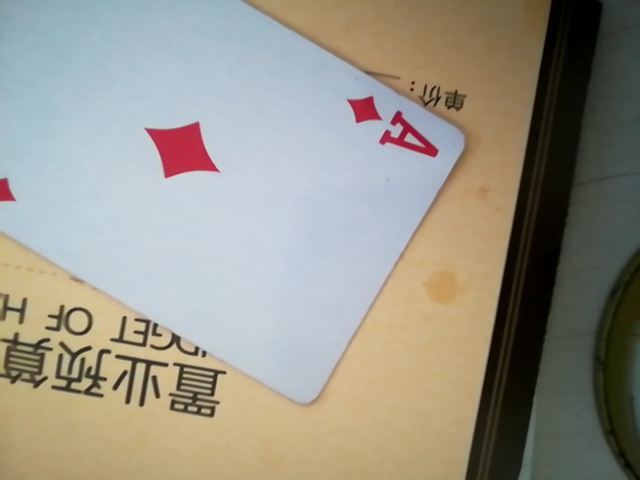fk a: (0, 3, 487, 407)
